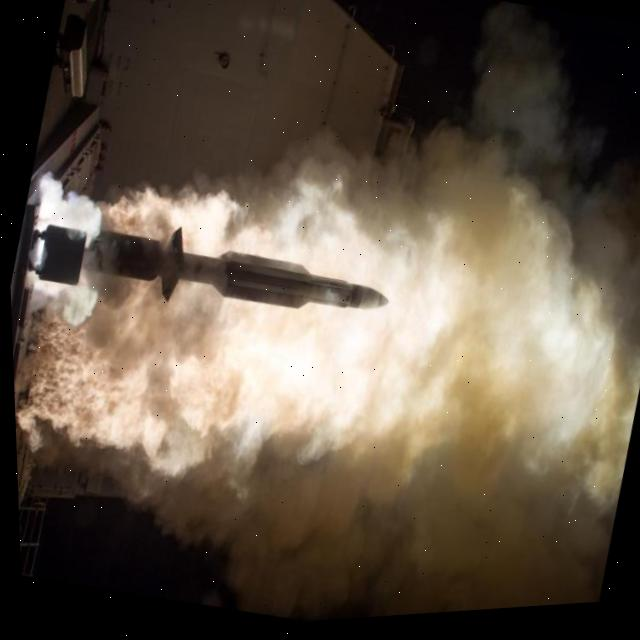missile: (6, 170, 422, 376)
